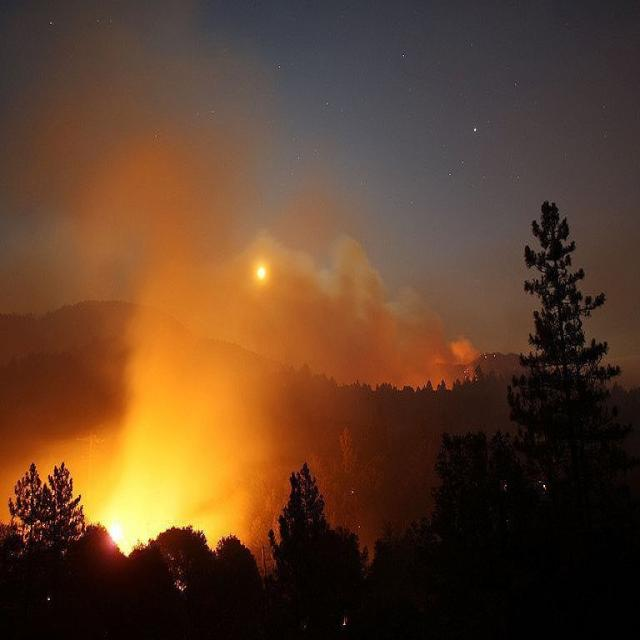Smoke: (2, 18, 457, 531)
